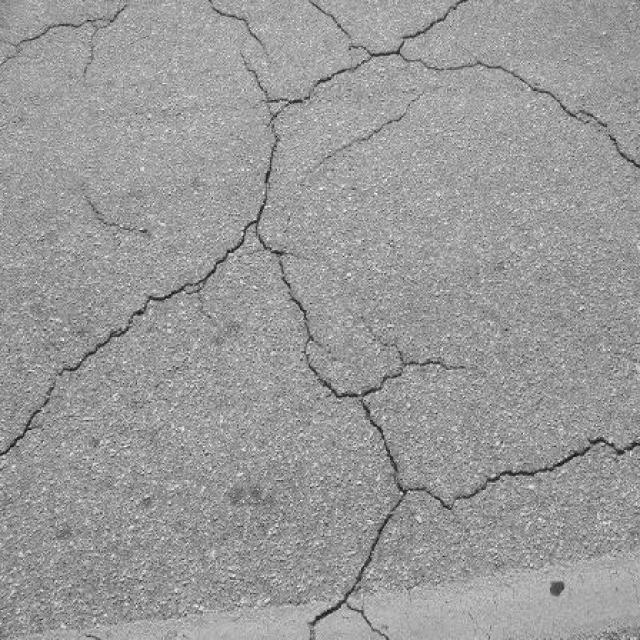Crack: (1, 0, 640, 538), (311, 90, 429, 177), (0, 5, 127, 81), (311, 560, 388, 640), (81, 192, 148, 237), (211, 7, 265, 49)
